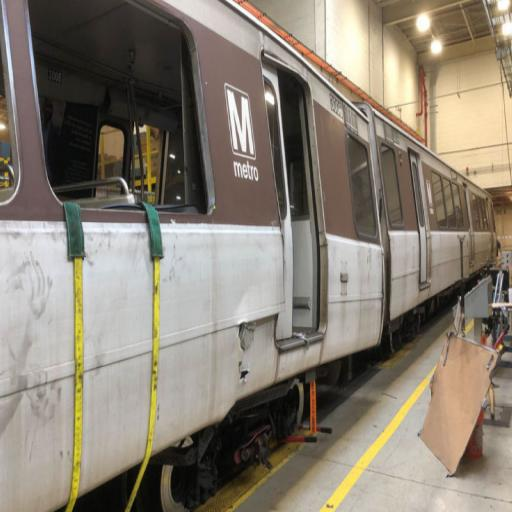platform_edge: (212, 295, 489, 512)
